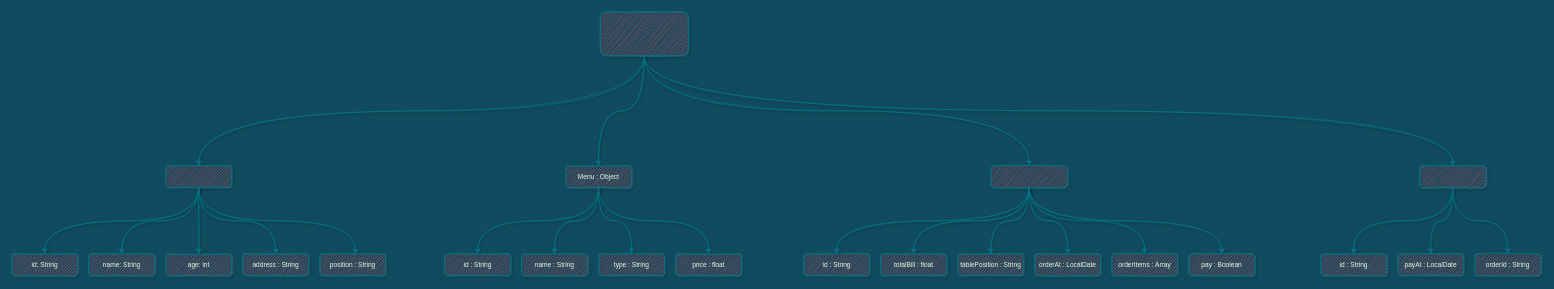
Some shapes in this 1554 by 289 pixel diagram are drawn without their labels. Each missing label, with the centre of its shape:
"Billing : Object" goes at point (1453, 177).
"Cafe management" goes at point (645, 34).
"OrderList : Object" goes at point (1029, 177).
"Staff : Object" goes at point (199, 177).
